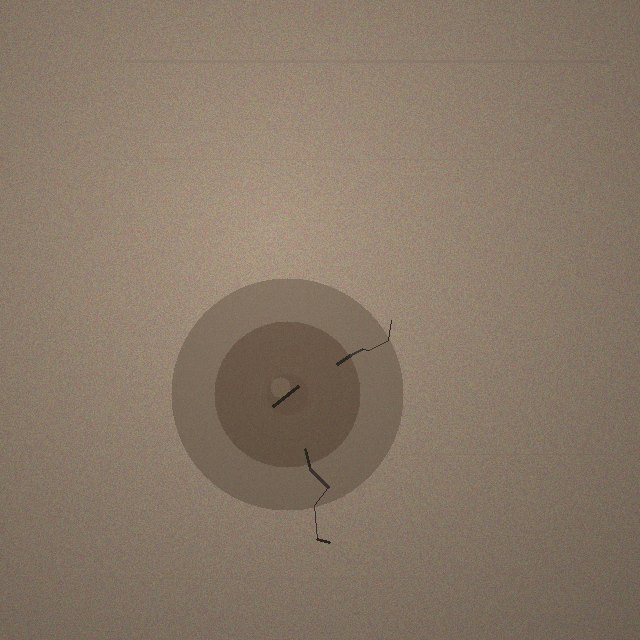crack: (171, 278, 403, 510)
